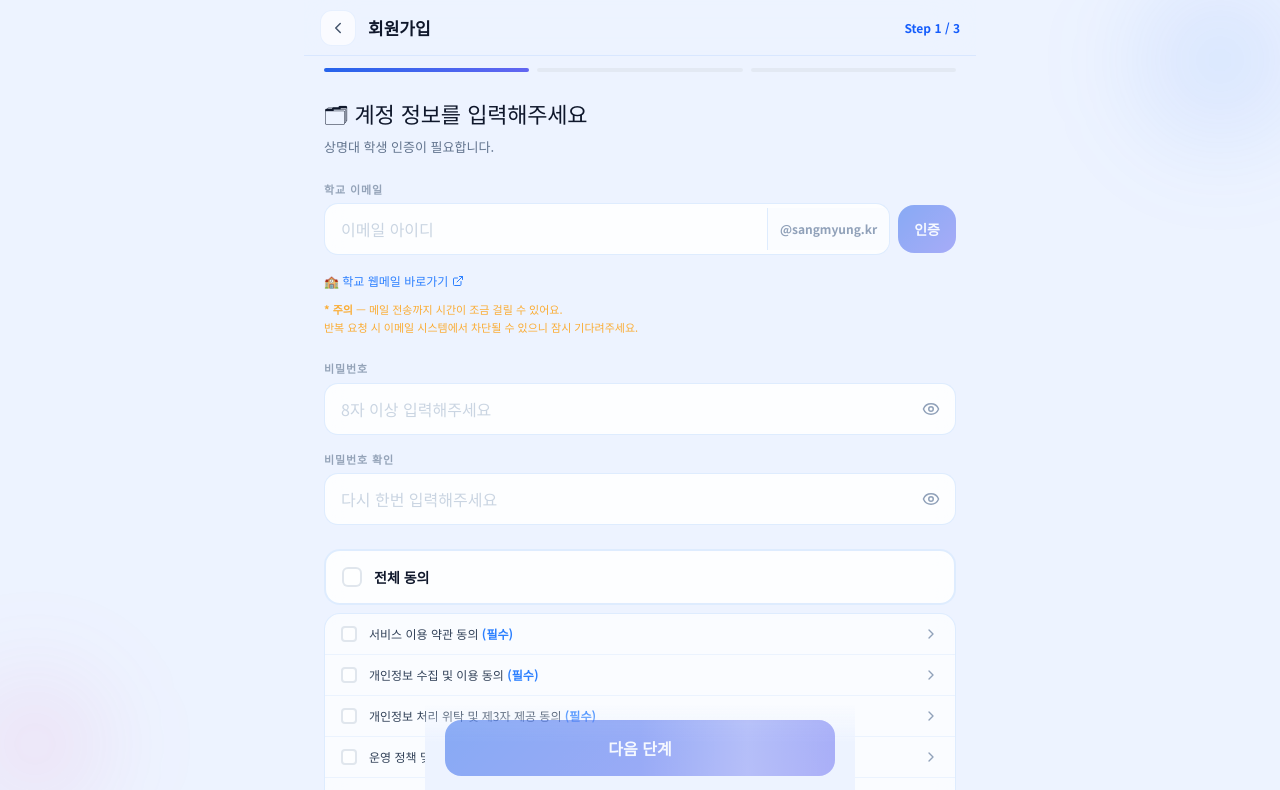
Test: SignupPage › 이메일 입력 시 "인증" 버튼 활성화
Step 1. Type "testuser" into the field with placeholder "이메일 아이디" → (546, 229), box [325,204,767,254]
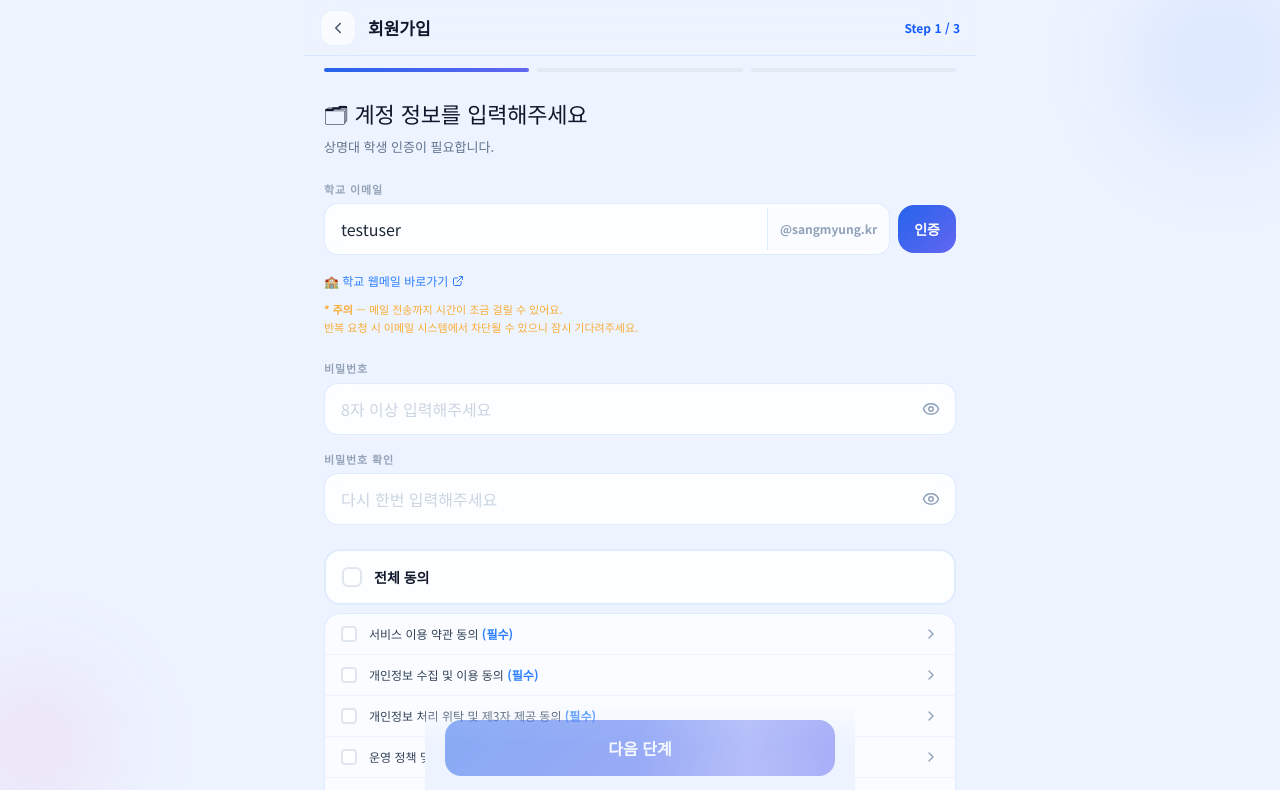
Expected: the button "인증" is enabled, [898,205,956,253]
